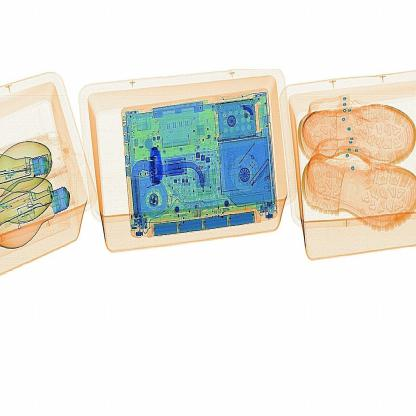scissors: (142, 136, 168, 188)
